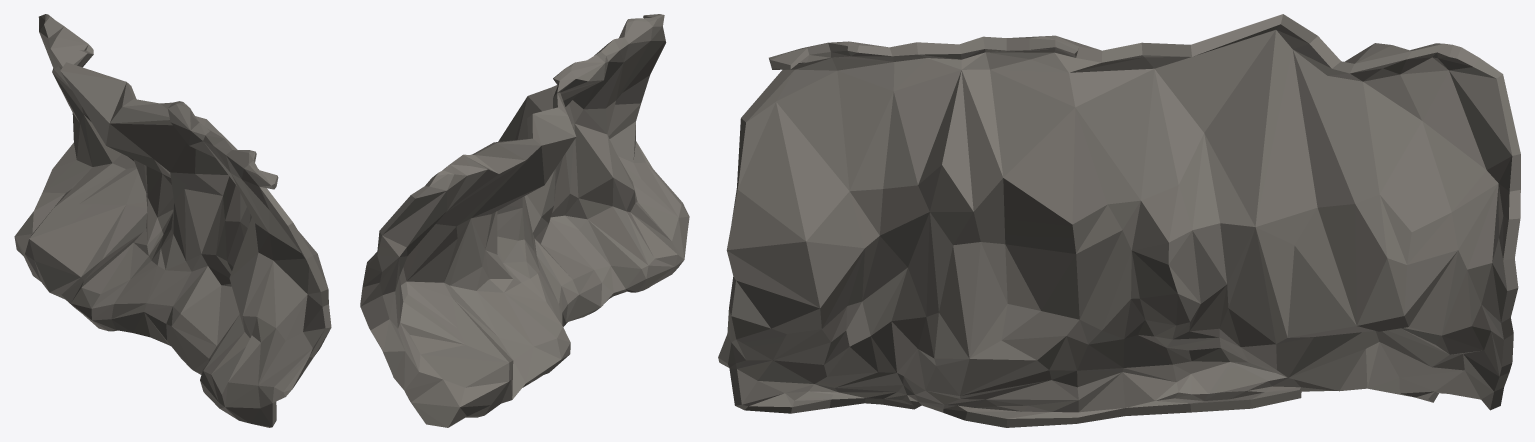
The model's file is SM_Env_Cave_Background_01_DoubleSided.glb.
3 renders of one model, left to right at view 1: azimuth 30°, elevation 25°; view 2: azimuth 150°, elevation 25°; view 3: azimuth 270°, elevation 25°, orthographic. The views are drawn at different scales.
Visible parts, largest first — view 1: SM_Env_Cave_Background_01_DoubleSided; view 2: SM_Env_Cave_Background_01_DoubleSided; view 3: SM_Env_Cave_Background_01_DoubleSided.
Part boxes in pixels (<box>): SM_Env_Cave_Background_01_DoubleSided: <box>14,14,331,427</box>; SM_Env_Cave_Background_01_DoubleSided: <box>360,14,689,427</box>; SM_Env_Cave_Background_01_DoubleSided: <box>718,14,1520,427</box>.
Size of the model in its own units: 0.1281 by 0.2528 by 0.4687.
Materials: 1 (1 with a texture image).
